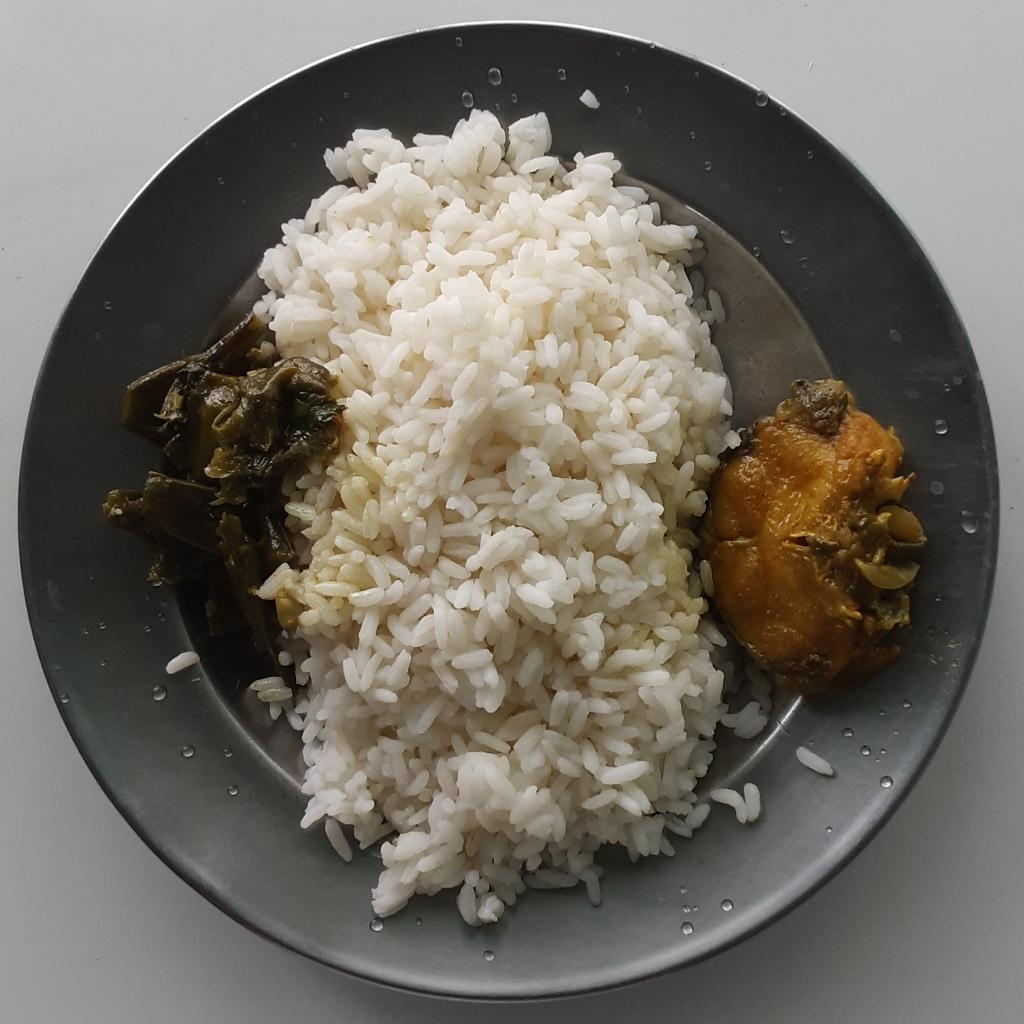fish: (705, 374, 927, 701)
rice: (253, 109, 770, 933)
shim: (100, 312, 333, 659)
